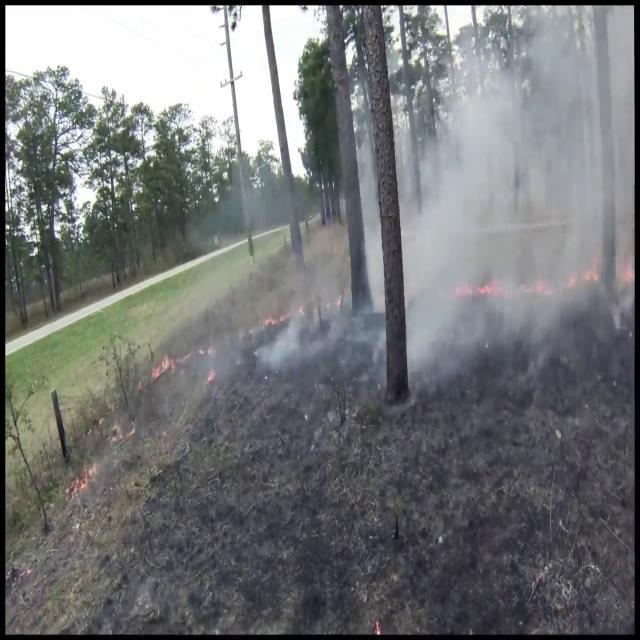Smoke: (372, 8, 634, 380), (238, 198, 334, 378)
